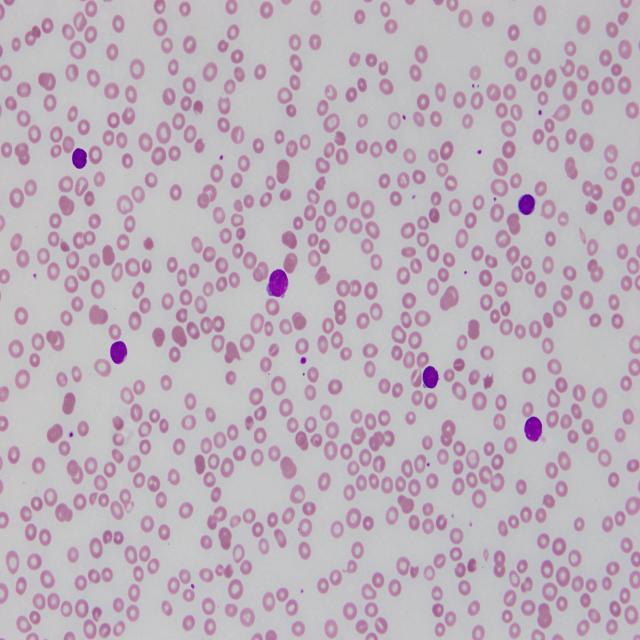cell: (266, 268, 289, 297), (524, 417, 542, 442), (110, 342, 128, 363), (518, 193, 535, 215), (422, 367, 439, 388), (71, 148, 88, 168)
